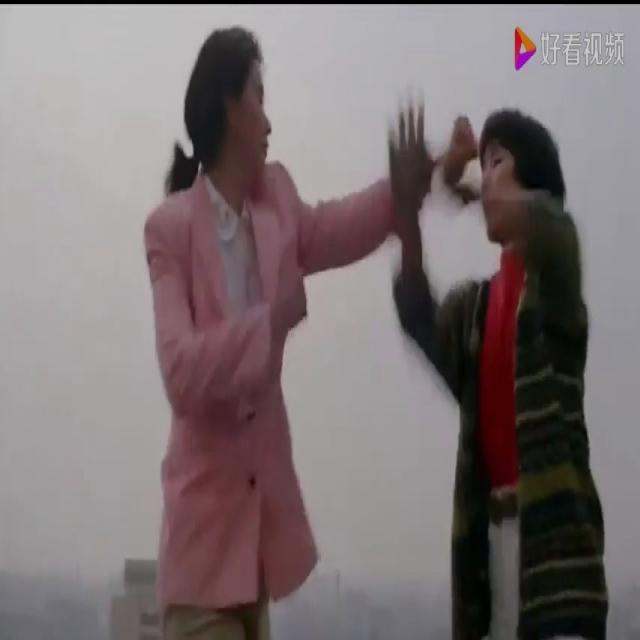fight: (106, 14, 624, 638)
